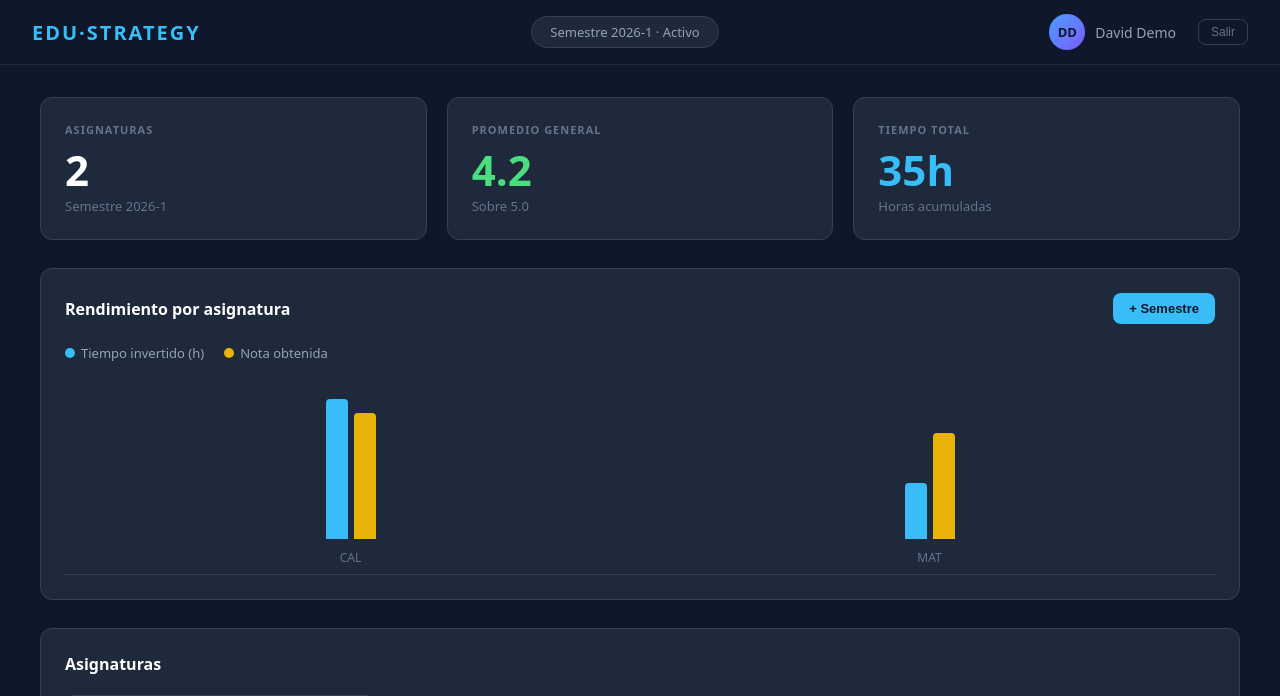
Scenario: Integración - Dashboard › al hacer click en el nombre de usuario navega a la vista de Perfil
The image size is (1280, 696).
Click the text "David Demo" at (1136, 32), box [1095,22,1176,42]
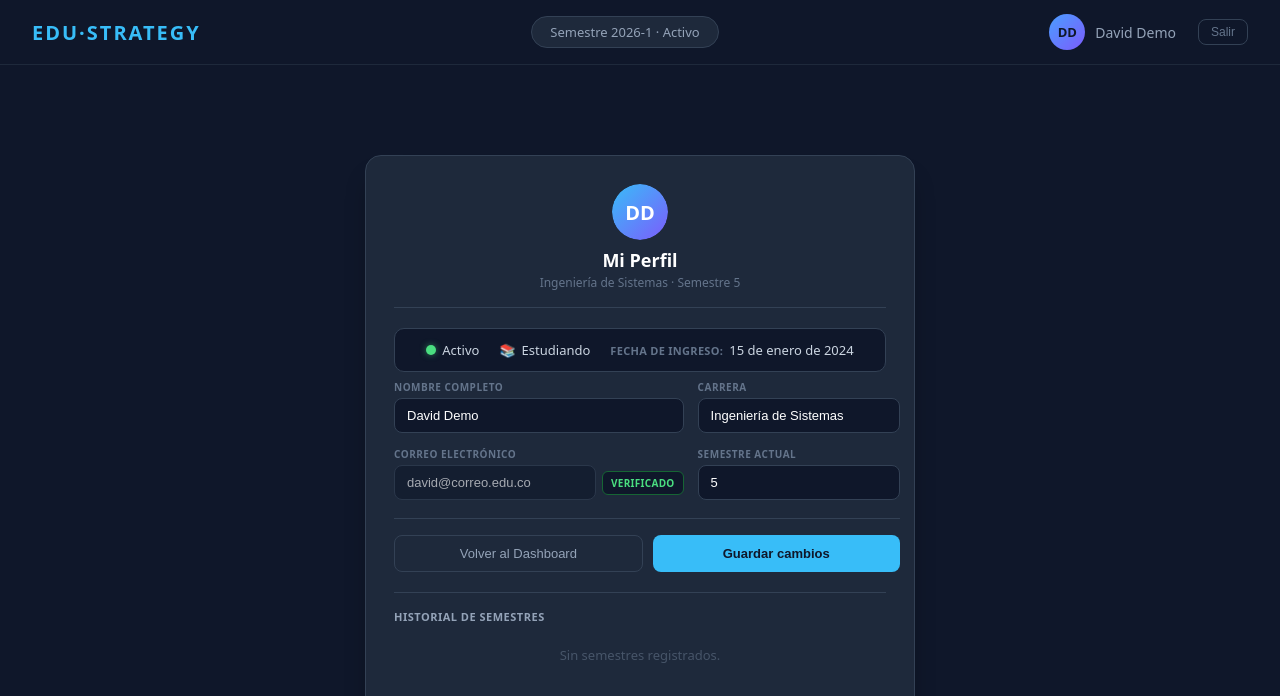
Expected: the heading "Mi Perfil" is shown, [602,248,678,272]
